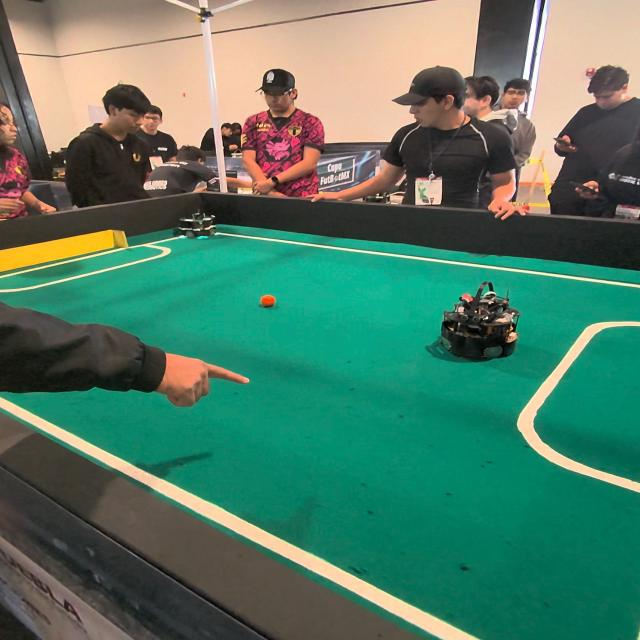Robot: (439, 279, 524, 363), (178, 193, 220, 239)
pelota: (264, 296, 276, 306)
